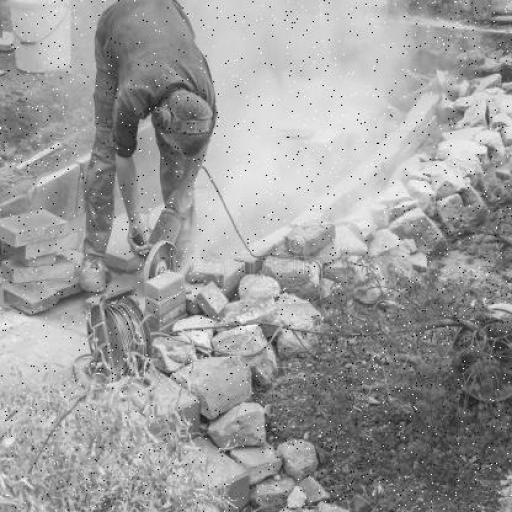person: (59, 0, 222, 315)
safety_shoe: (80, 242, 106, 300)
